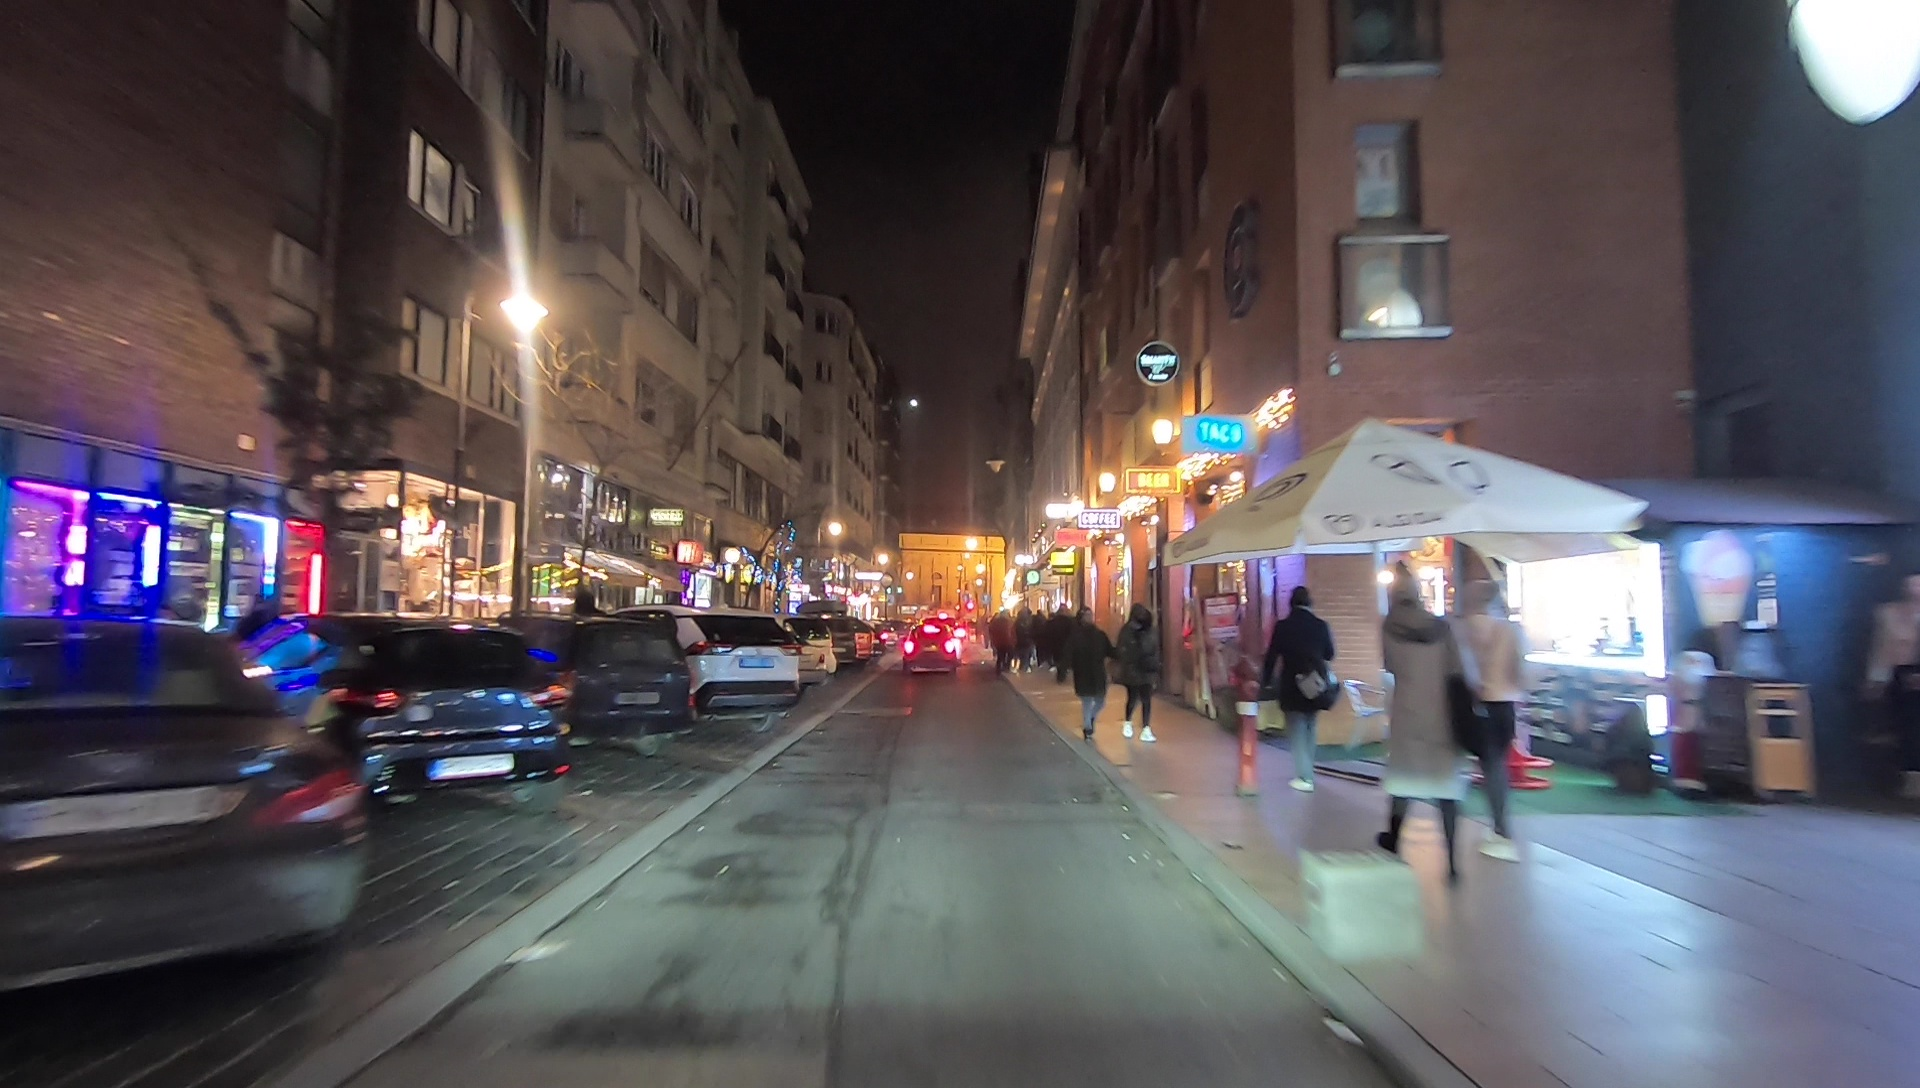person: (1373, 565, 1467, 886), (1438, 547, 1521, 861), (1262, 586, 1336, 797), (1117, 600, 1164, 743), (1069, 604, 1114, 739), (1049, 601, 1071, 681), (1017, 605, 1034, 671), (993, 612, 1011, 669)
